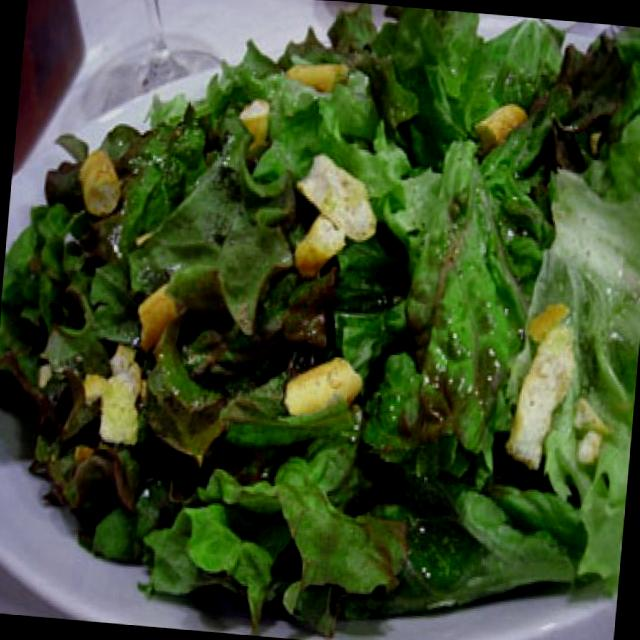Green Salad: (0, 0, 640, 624)
